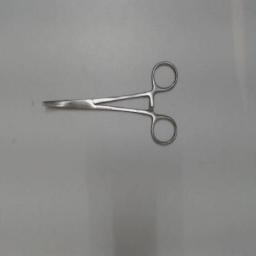Crile Artery Forceps: (38, 55, 182, 151)
